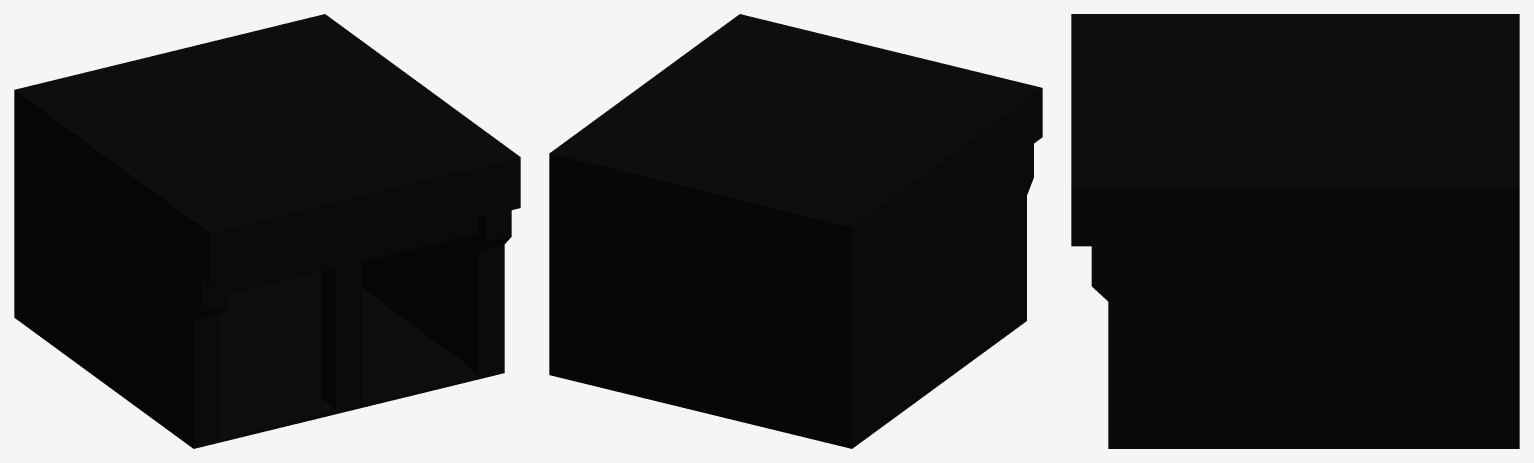
Rendered from pitsGarage.glb.
The picture shows the model from 3 angles, left to right: view 1: azimuth 30°, elevation 25°; view 2: azimuth 150°, elevation 25°; view 3: azimuth 270°, elevation 25°; orthographic projection. The views are drawn at different scales.
Visible parts, largest first — view 1: Mesh noExport; view 2: Mesh noExport; view 3: Mesh noExport.
Part boxes in pixels (left/top/right/bottom): Mesh noExport: left=14, top=14, right=520, bottom=448; Mesh noExport: left=549, top=14, right=1042, bottom=448; Mesh noExport: left=1071, top=14, right=1519, bottom=448.
Size of the model in its own units: 1 by 0.7 by 1.09.
1 material, 1 textured.
